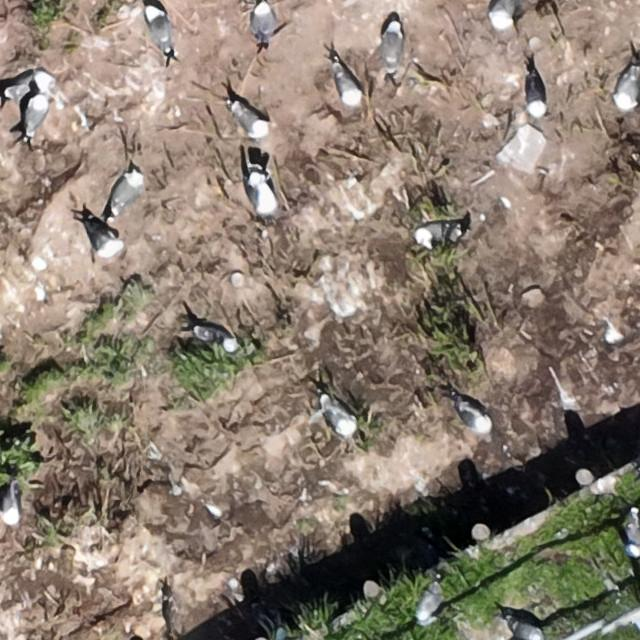umineko: (242, 154, 282, 216), (82, 210, 122, 260), (147, 6, 173, 54), (112, 174, 142, 210), (326, 401, 355, 436), (336, 70, 360, 106), (616, 69, 638, 108), (459, 403, 488, 431), (528, 75, 547, 116), (26, 97, 47, 133), (236, 108, 263, 136), (192, 326, 229, 346), (3, 488, 22, 524), (419, 588, 440, 620), (509, 619, 541, 640), (254, 4, 273, 38), (415, 223, 445, 243), (396, 20, 406, 51)
